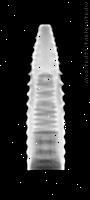Cowellmedi: (25, 23, 65, 170)
